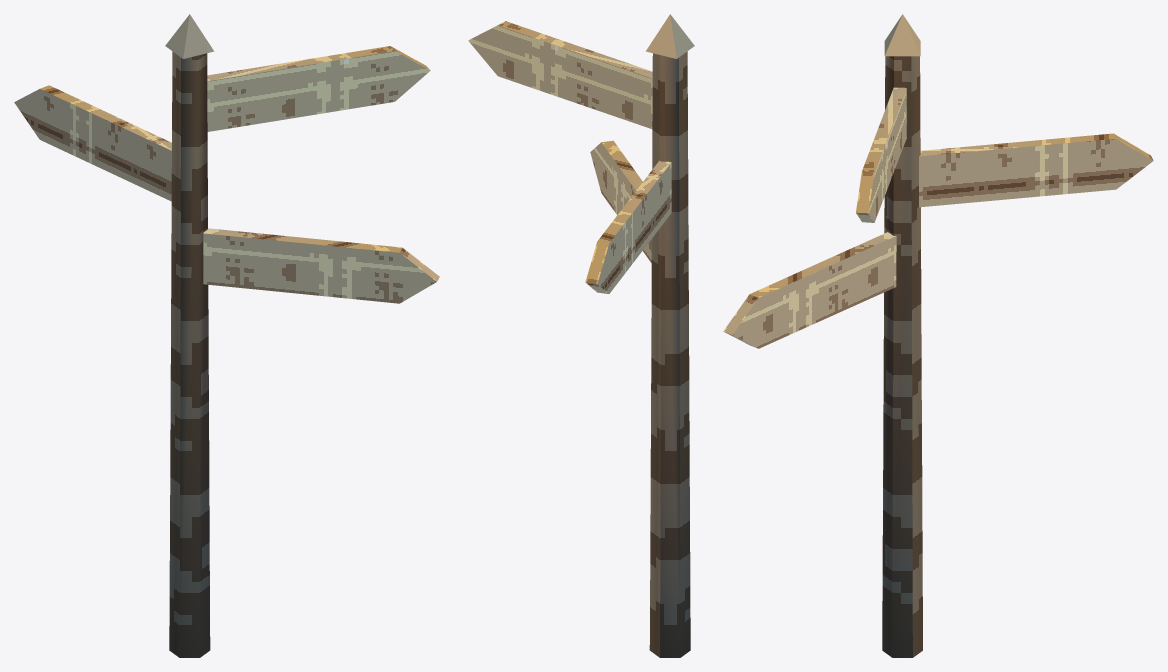
File: wprop.signpost.glb
The picture shows the model from 3 angles, left to right: view 1: azimuth 30°, elevation 25°; view 2: azimuth 150°, elevation 25°; view 3: azimuth 270°, elevation 25°; orthographic projection.
Visible parts, largest first — view 1: kit_boards, kit_post, kit_cap; view 2: kit_post, kit_boards, kit_cap; view 3: kit_boards, kit_post, kit_cap.
Boxes of the visible parts, <box> form: kit_boards: <box>14,46,439,303</box>; kit_post: <box>169,51,210,657</box>; kit_cap: <box>165,14,214,58</box>; kit_post: <box>649,51,690,657</box>; kit_boards: <box>468,21,671,293</box>; kit_cap: <box>645,14,694,58</box>; kit_boards: <box>723,87,1153,348</box>; kit_post: <box>882,56,922,657</box>; kit_cap: <box>884,14,920,56</box>.
Size of the model in its own units: 1.22 by 2.75 by 1.69.
Materials: 3 (3 with a texture image).
